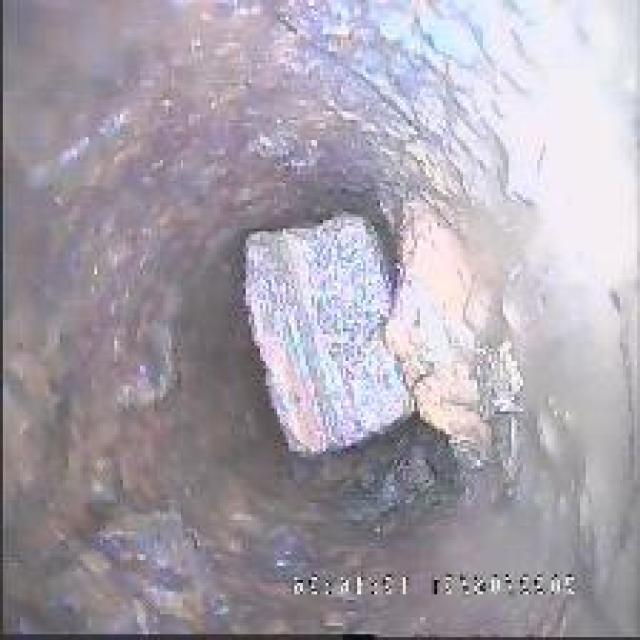stone: (226, 205, 417, 466)
